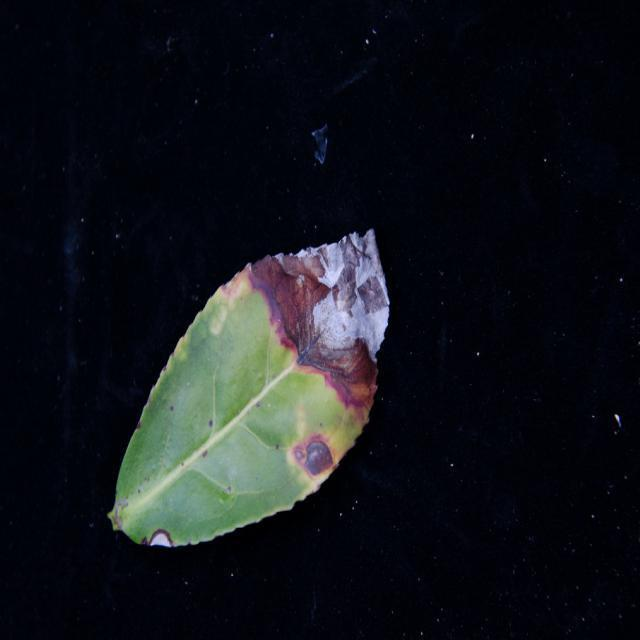Tea cloud leaf blight: (246, 214, 406, 395)
